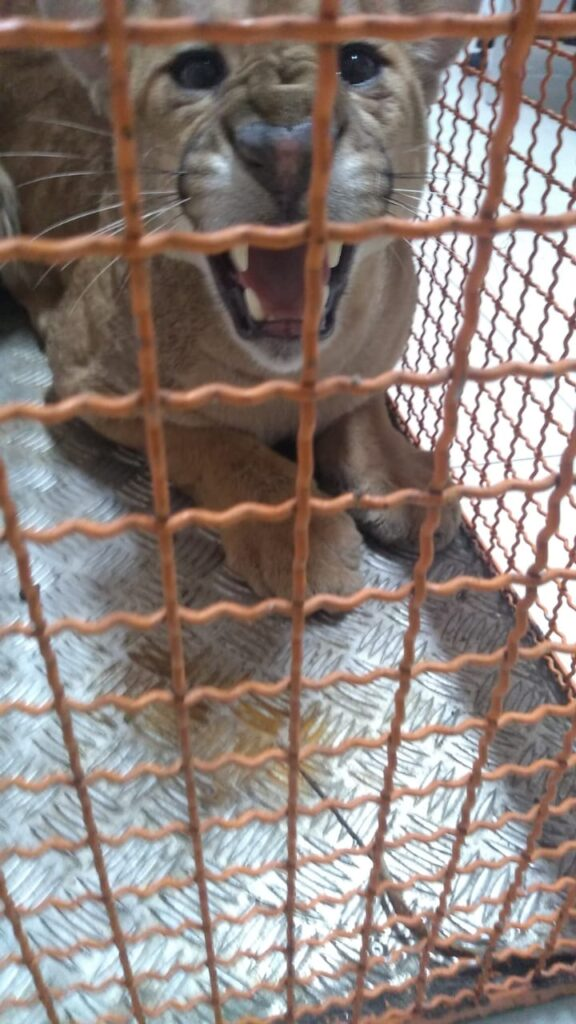OncaParda: (21, 5, 517, 637)
